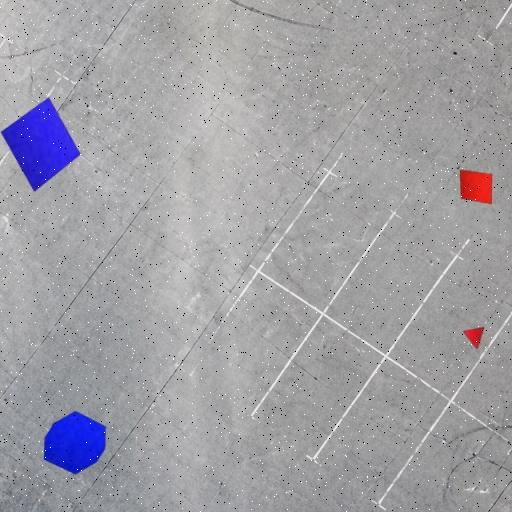BLUE_SQUARE: (0, 97, 82, 193)
RED_SQUARE: (459, 170, 493, 204)
